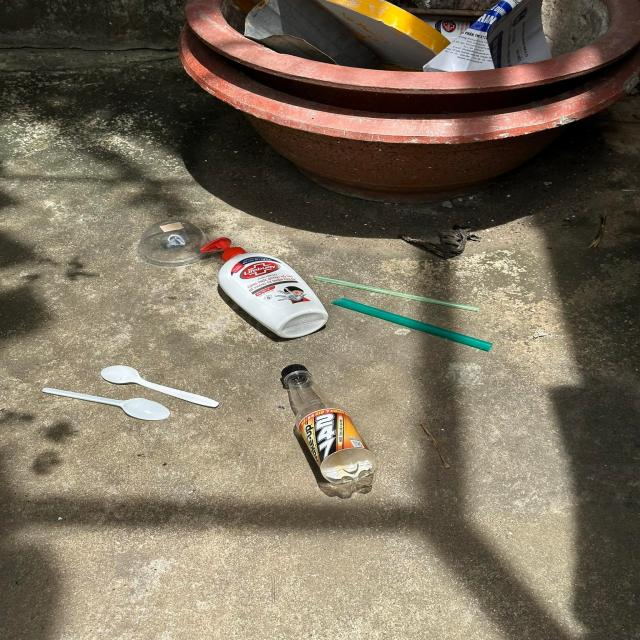bottle: (199, 236, 329, 338), (281, 364, 378, 492)
drinking straw: (331, 298, 493, 352), (314, 276, 480, 312)
lid: (138, 220, 212, 268)
plastic utensil: (101, 365, 219, 407), (42, 387, 170, 421)
